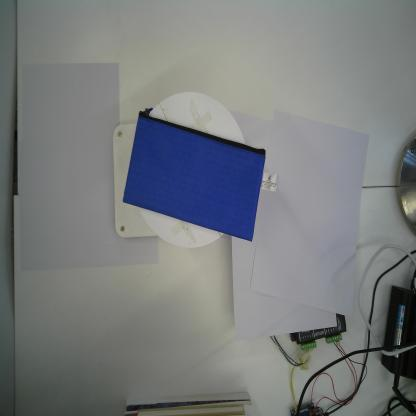Stationery: (122, 107, 266, 244)
